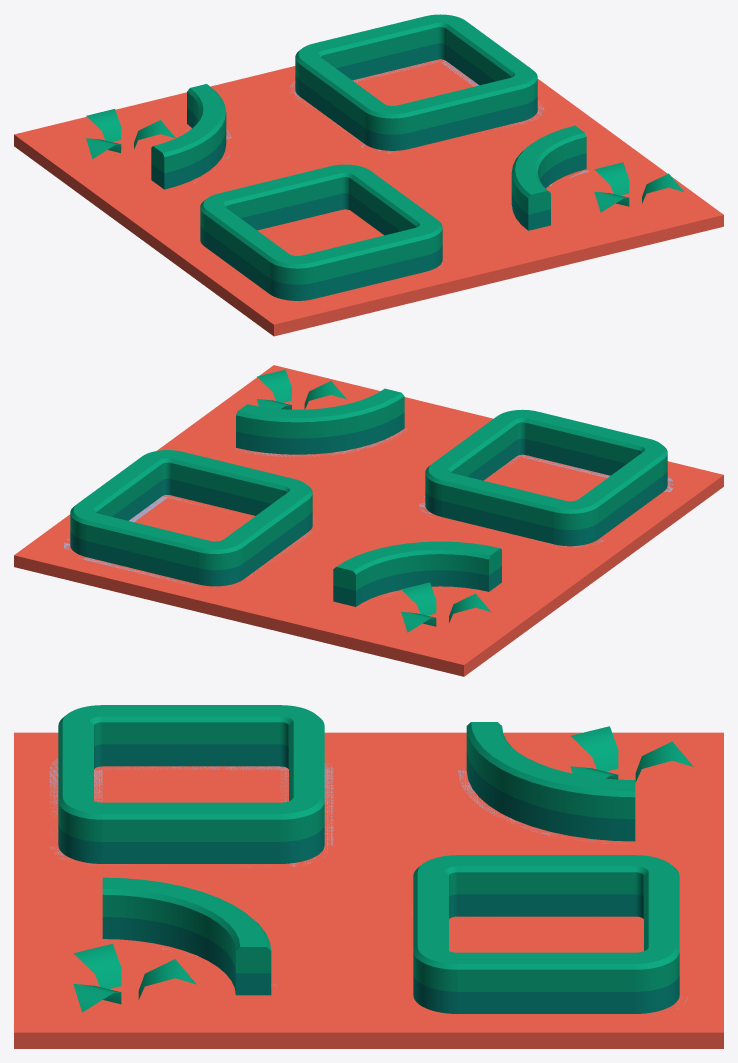
File: quick_park.glb
The picture shows the model from 3 angles, top to bottom: view 1: azimuth 30°, elevation 25°; view 2: azimuth 150°, elevation 25°; view 3: azimuth 270°, elevation 25°; orthographic projection. The views are drawn at different scales.
Parts seen in each view (by area): view 1: mergedBlocks(Clone); view 2: mergedBlocks(Clone); view 3: mergedBlocks(Clone).
Boxes of the visible parts, x1,y1,x2,y2 form: mergedBlocks(Clone): (14,14,723,336); mergedBlocks(Clone): (14,365,723,676); mergedBlocks(Clone): (14,705,723,1048).
Bounding box in the file's own units: 4 × 0.4 × 4.
